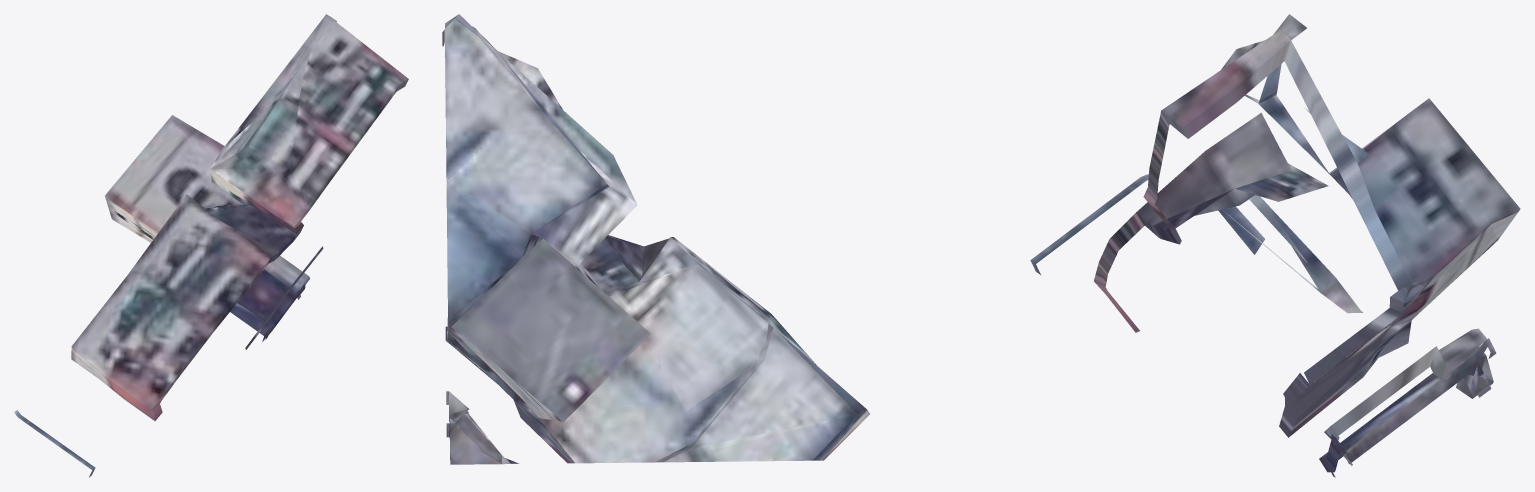
3 views of the same model, side by side, from view 1: azimuth 30°, elevation 25°; view 2: azimuth 150°, elevation 25°; view 3: azimuth 270°, elevation 25° (orthographic). The views are drawn at different scales.
Bounding box in the file's own units: 41.75 × 32.02 × 28.62.
Materials: 1 (1 with a texture image).
